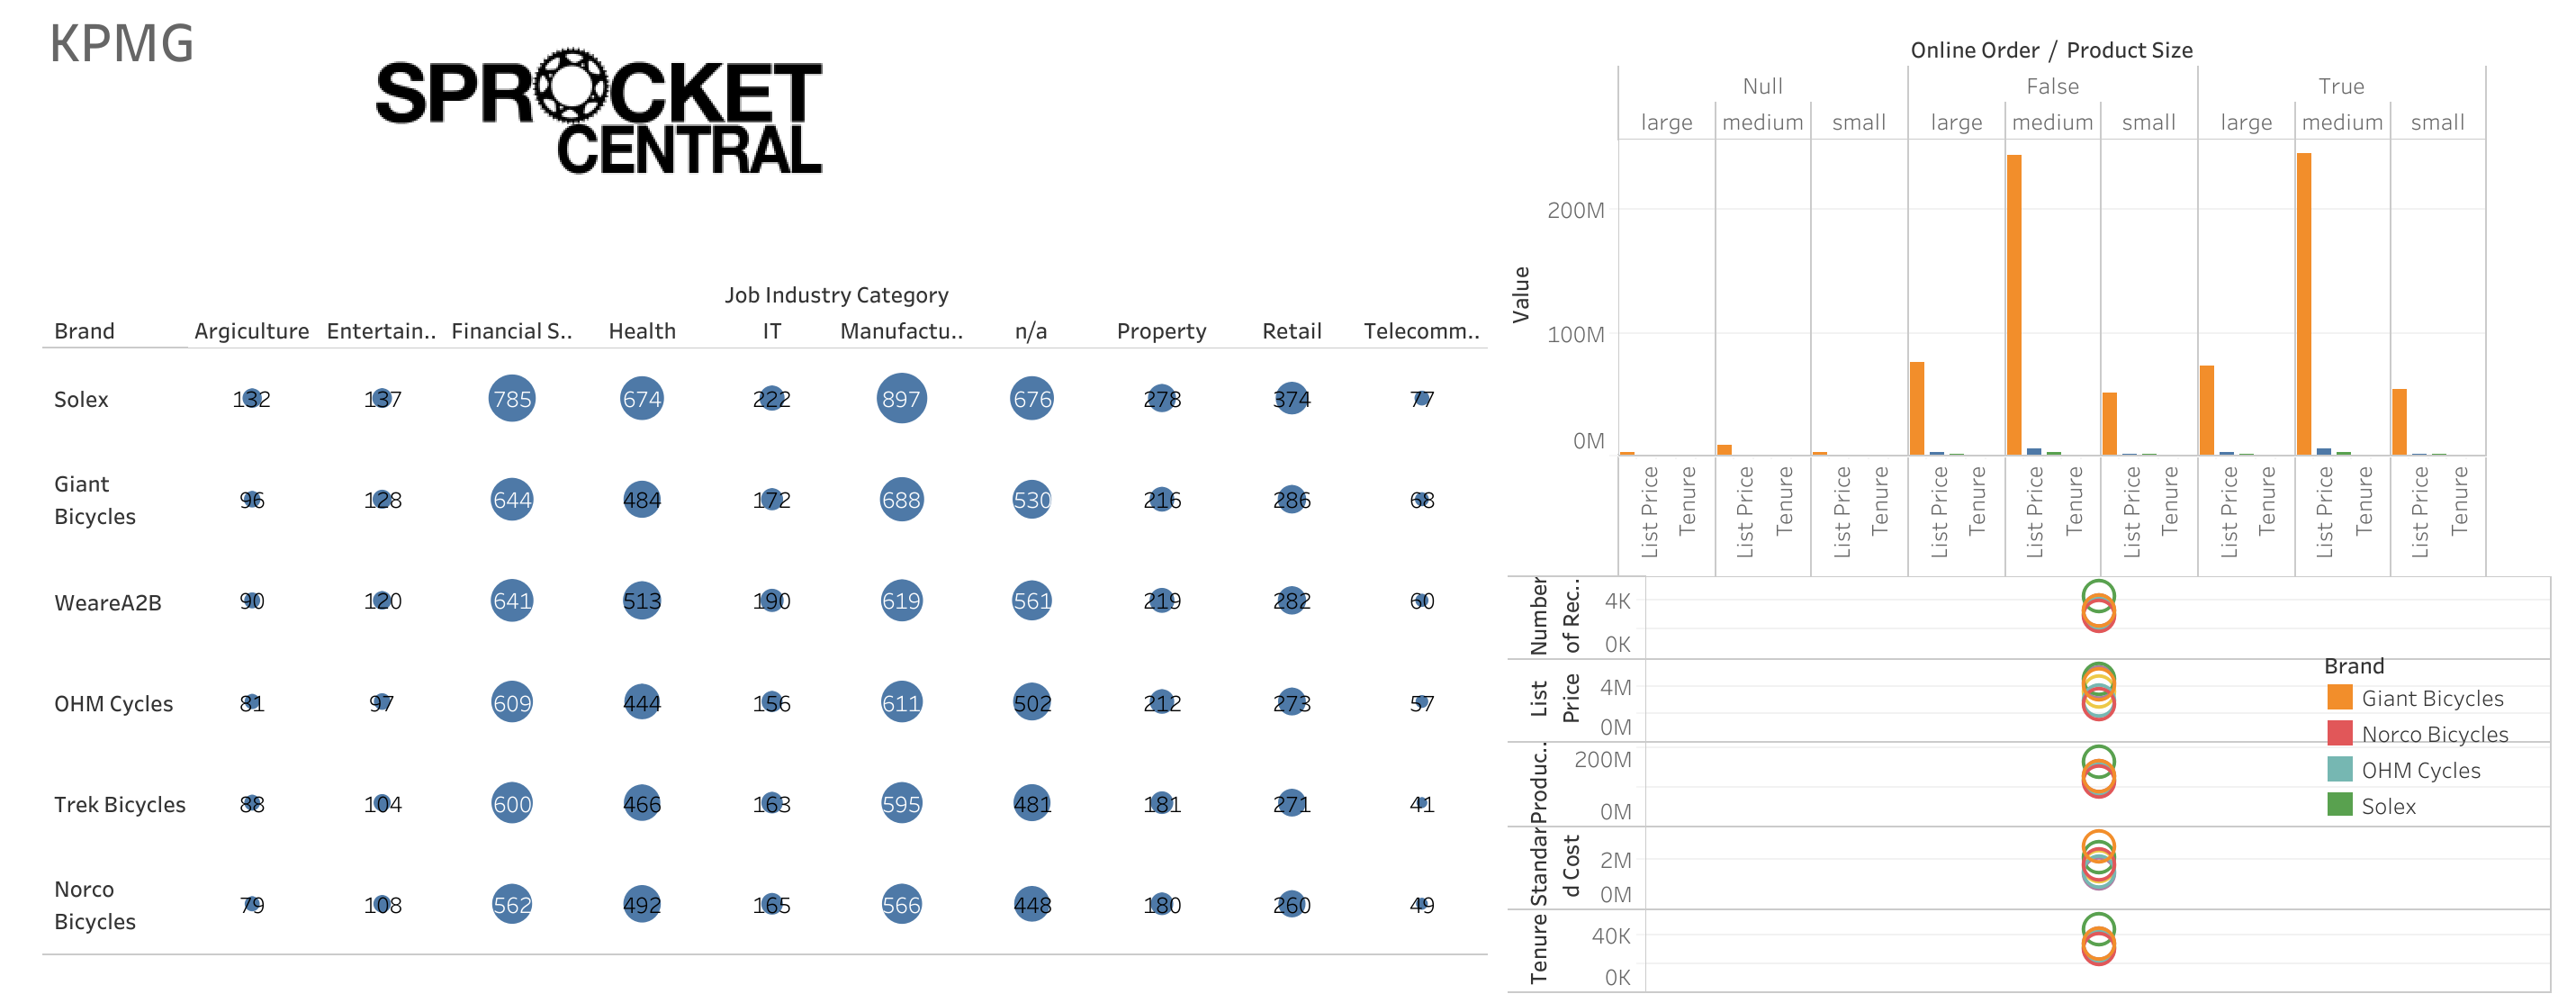

The page's visual inventory and layout, read from the dashboard file:
{"tool":"tableau","page":{"name":"Dashboard 2","canvas":[1000,1000],"units":"permille","ordinal":1},"visuals":[{"type":"worksheet","box":[16.9,10.3,67.6,58.4]},{"type":"worksheet","title":"Sheet 4","mark":"Automatic","cols":["online_order","product_size"],"box":[578.1,29.8,387.4,568.2]},{"type":"worksheet","param":"Image/sprocket_central_logo.png","box":[145.4,45.8,409.8,158.1]},{"type":"worksheet","title":"Sheet 6","mark":"Pie","rows":["brand"],"cols":["job_industry_category"],"box":[16.9,274.9,560.6,675.8]},{"type":"worksheet","title":"Sheet 5","mark":"Shape","rows":["Number of Records","list_price","product_first_sold_date","standard_cost","tenure"],"box":[585.4,572.7,405.6,415.8]},{"type":"worksheet","title":"Sheet 5","mark":"Shape","rows":["Number of Records","list_price","product_first_sold_date","standard_cost","tenure"],"param":"[federated.10zzsdp0hoaa021cgm0eb0f26sjg].[none:brand:nk]","box":[901,641.5,84.5,169.5]}]}

Visuals, with their boxes on the dashboard's canvas, which has no fixed pixel size, in thousandths of its width and height (x1, y1, x2, y2). These are canvas units, not pixel positions in the 2576x1003 screenshot, which may show the page scaled, cropped or inside an application window:
worksheet: l=17, t=10, r=84, b=69
"Sheet 4" worksheet: l=578, t=30, r=966, b=598
worksheet: l=145, t=46, r=555, b=204
"Sheet 6" worksheet (Pie marks): l=17, t=275, r=578, b=951
"Sheet 5" worksheet (Shape marks): l=585, t=573, r=991, b=988
"Sheet 5" worksheet (Shape marks): l=901, t=642, r=986, b=811
